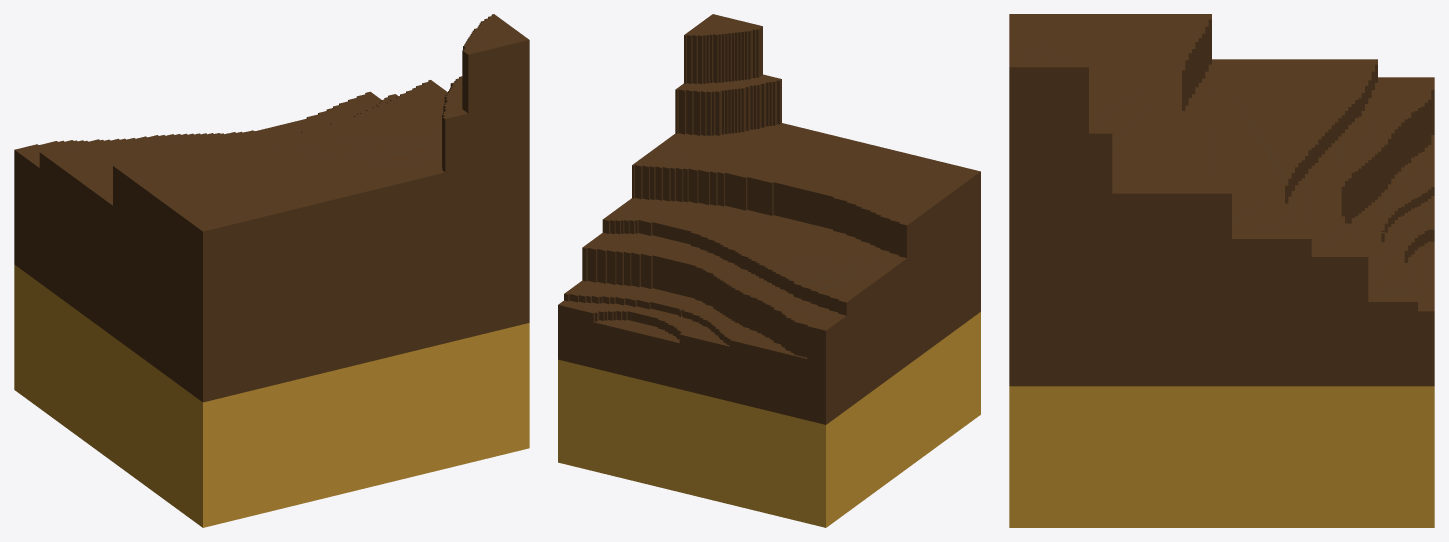
3 views of the same model, side by side, from view 1: azimuth 30°, elevation 25°; view 2: azimuth 150°, elevation 25°; view 3: azimuth 270°, elevation 25° (orthographic). The views are drawn at different scales.
Visible parts, largest first — view 1: 10P; view 2: 10P; view 3: 10P.
Boxes of the visible parts, x1,y1,x2,y2 form: 10P: (14,14,529,527); 10P: (558,14,980,527); 10P: (1009,14,1434,527).
Bounding box in the file's own units: 12.8 × 15.3 × 12.8.
Materials: 1 (1 with a texture image).
